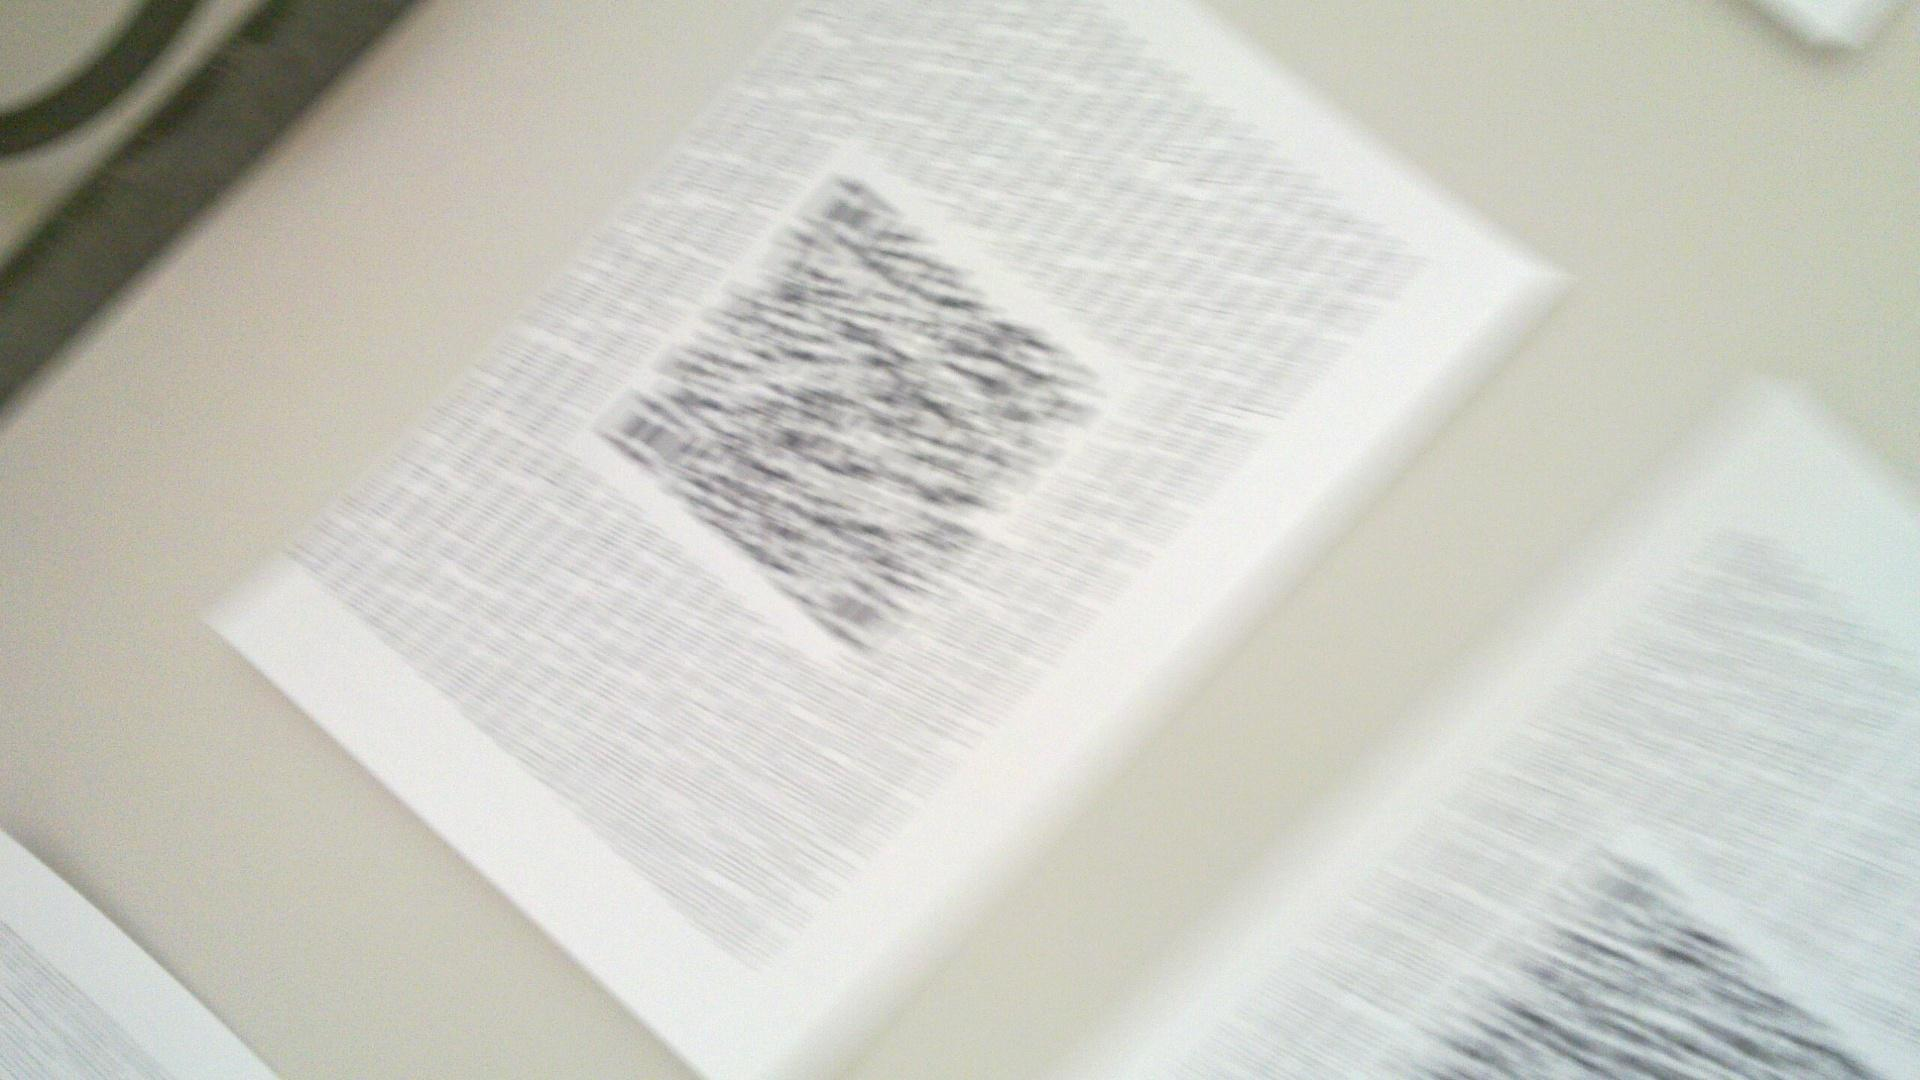Finder pattern: (816, 181, 886, 247), (823, 582, 890, 649), (612, 400, 673, 459)
